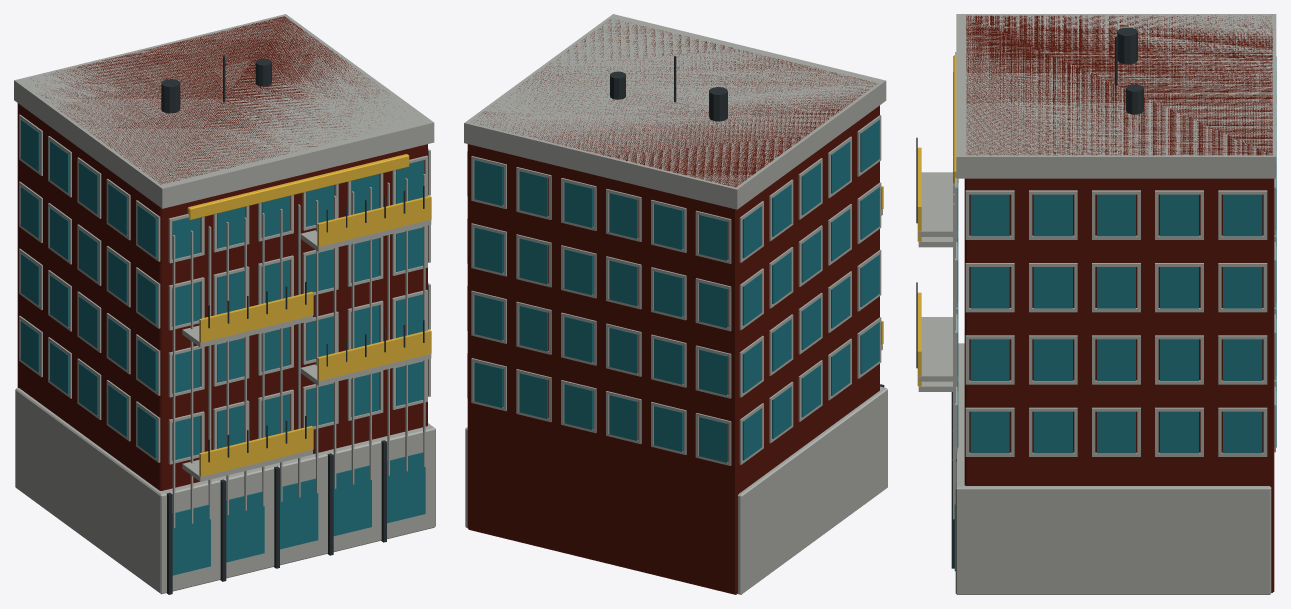
The model's file is JHB_MidRise02_LOD0.fbx.
3 views of the same model, side by side, from view 1: azimuth 30°, elevation 25°; view 2: azimuth 150°, elevation 25°; view 3: azimuth 270°, elevation 25° (orthographic). The views are drawn at different scales.
Visible parts, largest first — view 1: JHB_MidRise02_LOD0_Concrete, JHB_MidRise02_LOD0_FacadeAtlas, JHB_MidRise02_LOD0_TealGlass, JHB_MidRise02_LOD0_Accent, JHB_MidRise02_LOD0_DarkMetal, JHB_MidRise02_LOD0_BlankSignBand; view 2: JHB_MidRise02_LOD0_FacadeAtlas, JHB_MidRise02_LOD0_Concrete, JHB_MidRise02_LOD0_TealGlass, JHB_MidRise02_LOD0_DarkMetal; view 3: JHB_MidRise02_LOD0_Concrete, JHB_MidRise02_LOD0_FacadeAtlas, JHB_MidRise02_LOD0_TealGlass, JHB_MidRise02_LOD0_DarkMetal, JHB_MidRise02_LOD0_Accent, JHB_MidRise02_LOD0_BlankSignBand.
Boxes of the visible parts, left/top/right/bottom form: JHB_MidRise02_LOD0_Concrete: left=14, top=14, right=435, bottom=594; JHB_MidRise02_LOD0_FacadeAtlas: left=17, top=16, right=427, bottom=490; JHB_MidRise02_LOD0_TealGlass: left=20, top=119, right=425, bottom=575; JHB_MidRise02_LOD0_Accent: left=199, top=196, right=431, bottom=476; JHB_MidRise02_LOD0_DarkMetal: left=161, top=56, right=424, bottom=594; JHB_MidRise02_LOD0_BlankSignBand: left=187, top=154, right=409, bottom=220; JHB_MidRise02_LOD0_FacadeAtlas: left=467, top=19, right=879, bottom=594; JHB_MidRise02_LOD0_Concrete: left=464, top=14, right=887, bottom=594; JHB_MidRise02_LOD0_TealGlass: left=474, top=120, right=879, bottom=462; JHB_MidRise02_LOD0_DarkMetal: left=610, top=56, right=884, bottom=387; JHB_MidRise02_LOD0_Concrete: left=918, top=14, right=1276, bottom=594; JHB_MidRise02_LOD0_FacadeAtlas: left=964, top=15, right=1274, bottom=592; JHB_MidRise02_LOD0_TealGlass: left=954, top=56, right=1276, bottom=571; JHB_MidRise02_LOD0_DarkMetal: left=916, top=27, right=1143, bottom=568; JHB_MidRise02_LOD0_Accent: left=917, top=147, right=921, bottom=386; JHB_MidRise02_LOD0_BlankSignBand: left=953, top=55, right=958, bottom=182.
Bounding box in the file's own units: 9.25 × 14.45 × 9.7.
6 materials, 1 textured.
